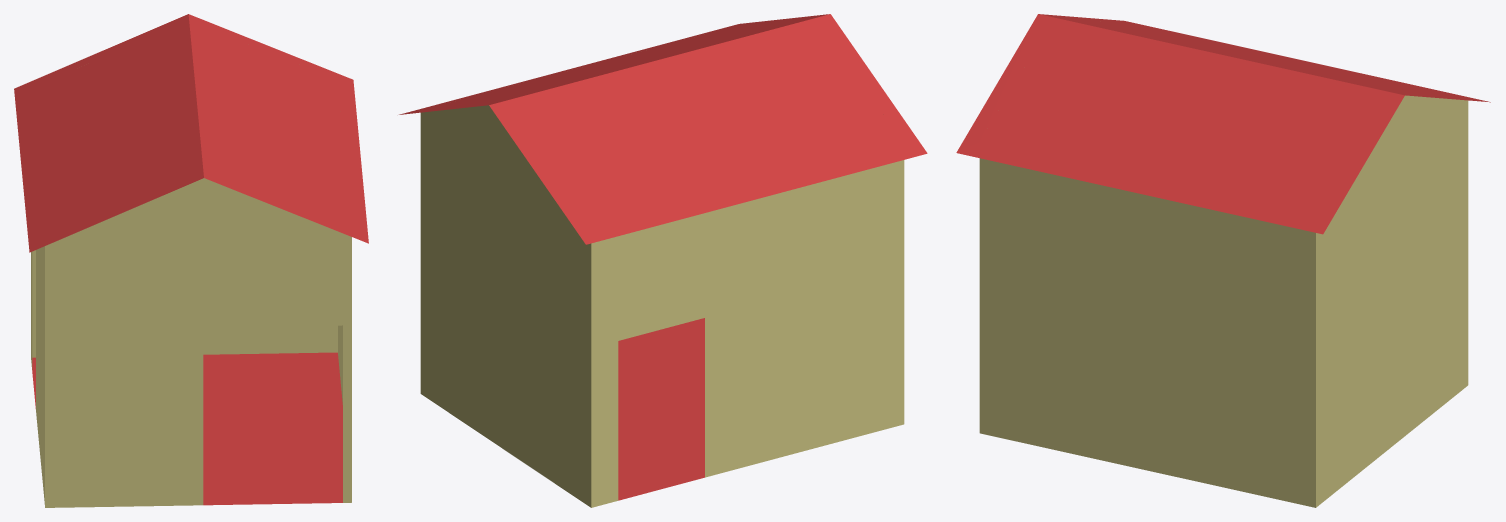
3 views of the same model, side by side, from view 1: azimuth 30°, elevation 25°; view 2: azimuth 150°, elevation 25°; view 3: azimuth 270°, elevation 25° (orthographic). The views are drawn at different scales.
Bounding box in the file's own units: 14.79 × 15.42 × 11.33.
